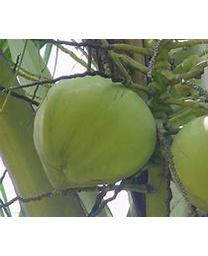coconut: (32, 73, 158, 193)
